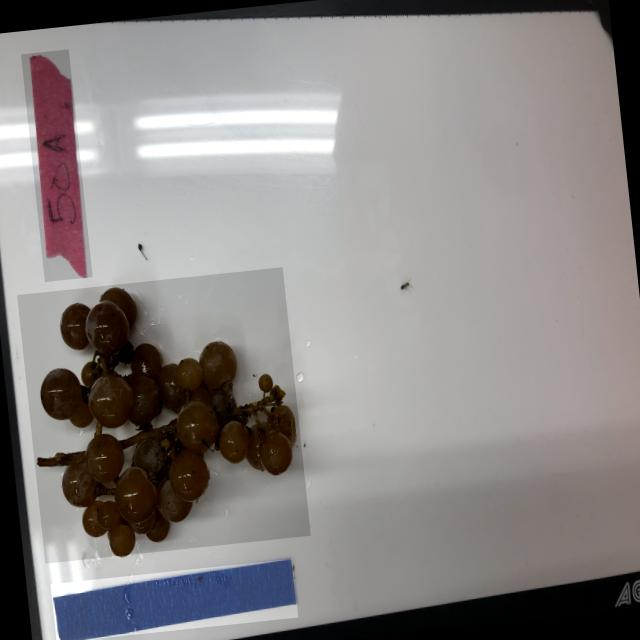grape_cluster: (17, 266, 310, 562)
index: (21, 47, 93, 280)
measure_label: (50, 557, 298, 640)
